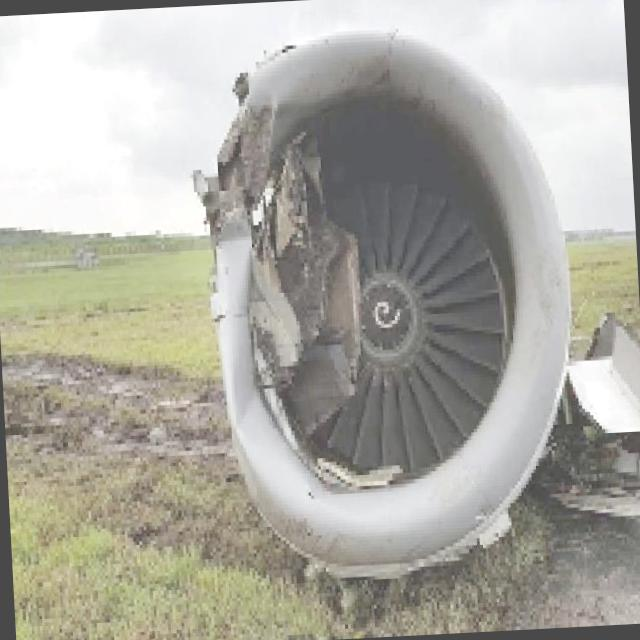dent: (220, 334, 270, 509), (212, 222, 258, 276)
